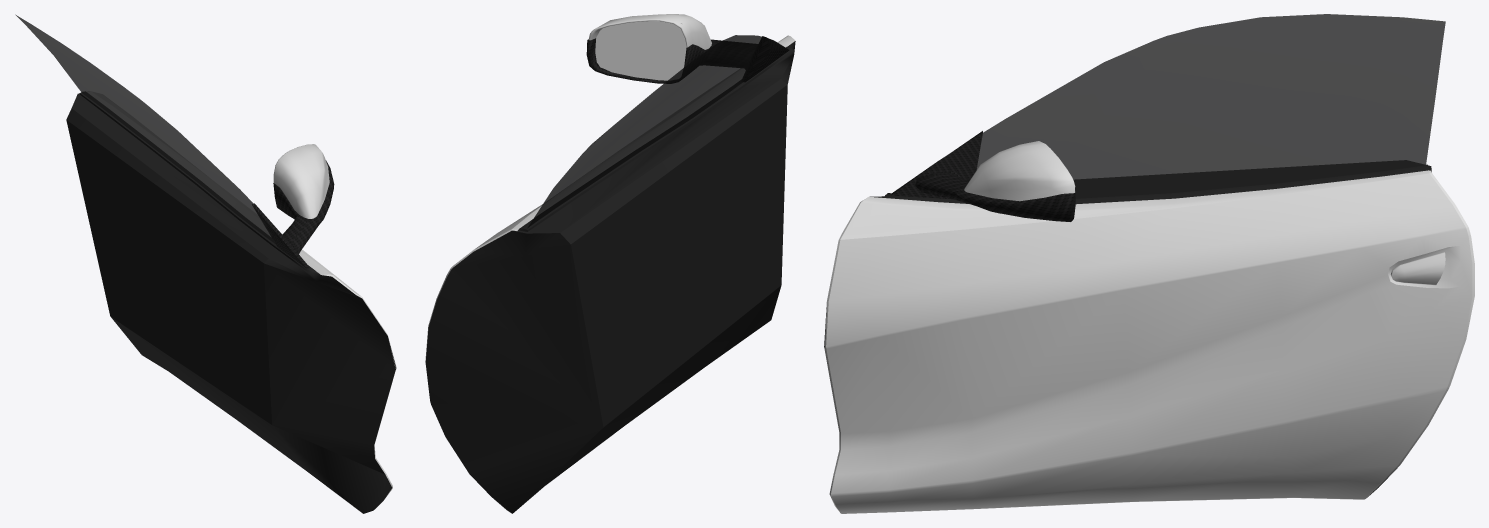
File: door_left.glb
The picture shows the model from 3 angles, left to right: view 1: azimuth 30°, elevation 25°; view 2: azimuth 150°, elevation 25°; view 3: azimuth 270°, elevation 25°; orthographic projection. The views are drawn at different scales.
Visible parts, largest first — view 1: 820_superspeed_door_L, 820_superspeed_door_glass_L, 820_superspeed_door_L_Paint, 820_superspeed_door_L.002; view 2: 820_superspeed_door_L, 820_superspeed_door_glass_L, 820_superspeed_door_L.001, 820_superspeed_door_L_Paint, 820_superspeed_door_L.002; view 3: 820_superspeed_door_L_Paint, 820_superspeed_door_glass_L, 820_superspeed_door_L, 820_superspeed_door_L.002.
Boxes of the visible parts, box(x1,y1,x2,y2) form: 820_superspeed_door_L: box(66, 92, 396, 513); 820_superspeed_door_glass_L: box(15, 14, 275, 243); 820_superspeed_door_L_Paint: box(88, 91, 396, 508); 820_superspeed_door_L.002: box(252, 160, 334, 268); 820_superspeed_door_L: box(425, 41, 795, 513); 820_superspeed_door_glass_L: box(527, 35, 762, 228); 820_superspeed_door_L.001: box(595, 21, 686, 80); 820_superspeed_door_L_Paint: box(425, 14, 795, 373); 820_superspeed_door_L.002: box(586, 36, 789, 83); 820_superspeed_door_L_Paint: box(824, 141, 1474, 513); 820_superspeed_door_glass_L: box(976, 14, 1445, 198); 820_superspeed_door_L: box(824, 160, 1431, 497); 820_superspeed_door_L.002: box(891, 131, 1075, 221).
Size of the model in its own units: 0.4498 by 0.971 by 1.33.
Materials: 5 (1 with a texture image).
